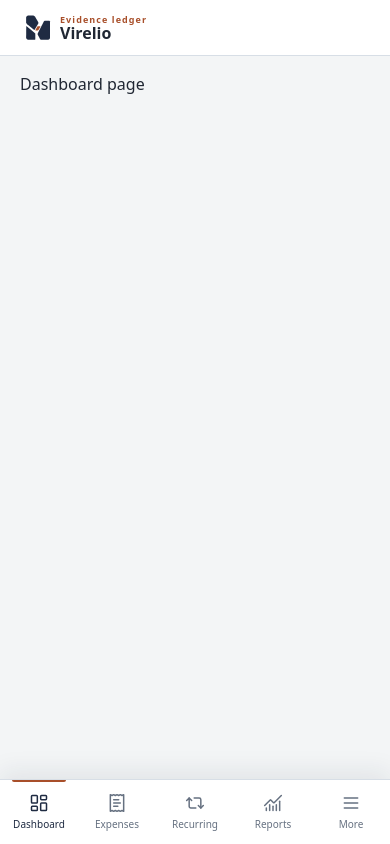
Test case: App › opens secondary navigation in the mobile more sheet
Click the button "More": point(351, 812) [312,780,389,843]
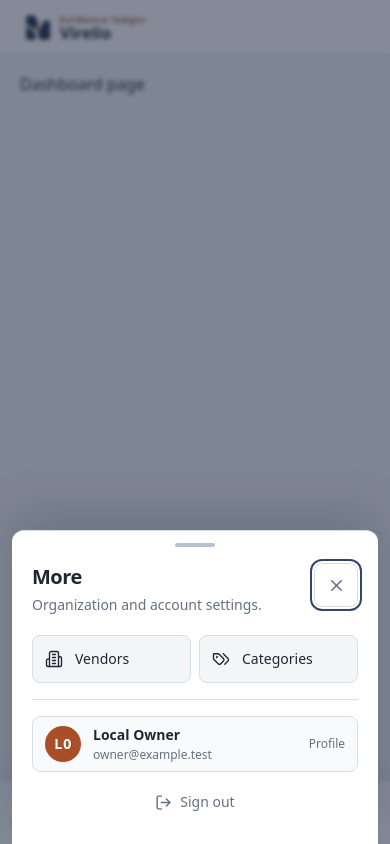
expect the button "More" is expanded: met, box [312,780,389,843]
expect the dialog shows "Organization and account settings.": met, box [32,595,262,614]
expect the navigation bar named "More navigation" shows "Vendors": met, box [32,635,191,683]
